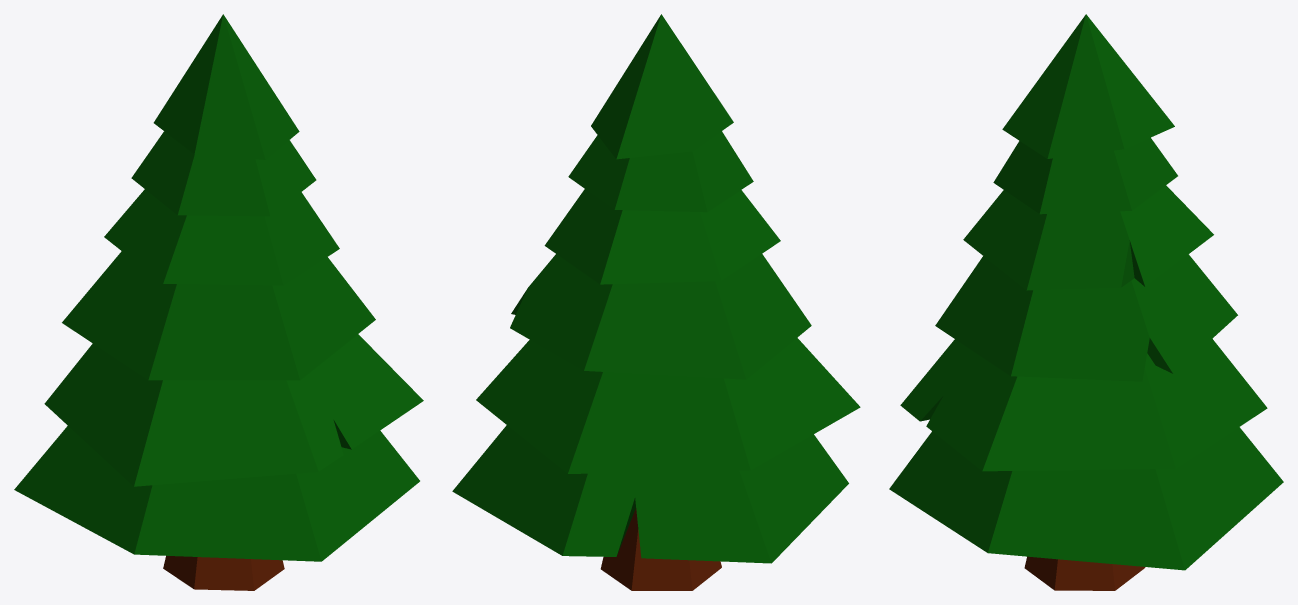
3 renders of one model, left to right at view 1: azimuth 30°, elevation 25°; view 2: azimuth 150°, elevation 25°; view 3: azimuth 270°, elevation 25°, orthographic.
Parts seen in each view (by area): view 1: Base_0; view 2: Base_0; view 3: Base_0.
Boxes of the visible parts, x1,y1,x2,y2 form: Base_0: (14,14,423,590); Base_0: (452,14,860,590); Base_0: (889,14,1283,590).
Bounding box in the file's own units: 4.32 × 7.18 × 4.63.
